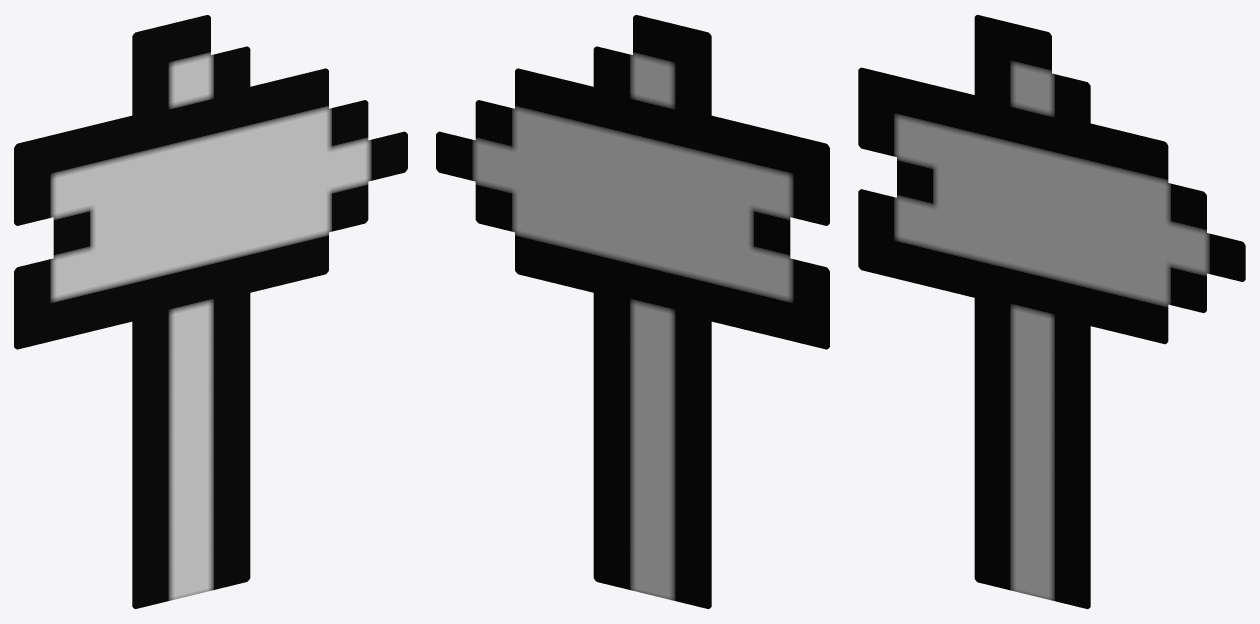
File: TrailSign.fbx
3 views of the same model, side by side, from view 1: azimuth 30°, elevation 25°; view 2: azimuth 150°, elevation 25°; view 3: azimuth 330°, elevation 25° (orthographic).
Parts seen in each view (by area): view 1: Plane; view 2: Plane; view 3: Plane.
Part boxes in pixels (left/top/right/bottom): Plane: left=14, top=15, right=407, bottom=608; Plane: left=436, top=15, right=829, bottom=608; Plane: left=858, top=15, right=1245, bottom=608.
Size of the model in its own units: 125 by 175 by 7.65e-06.
